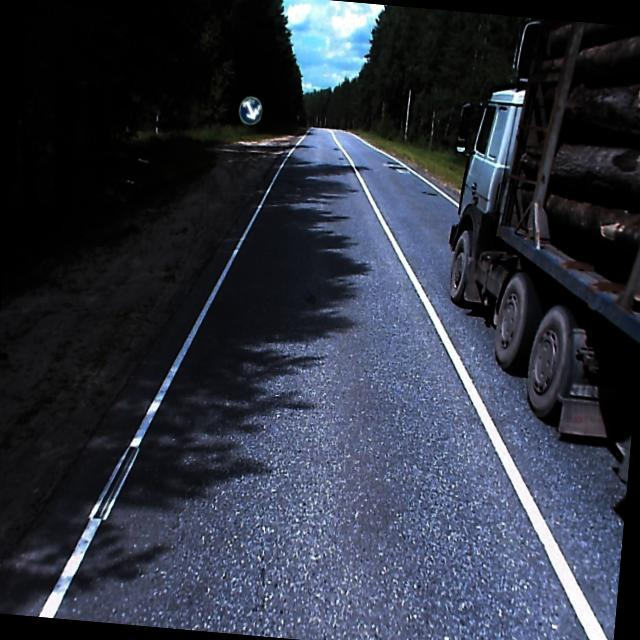road: (0, 126, 624, 640)
